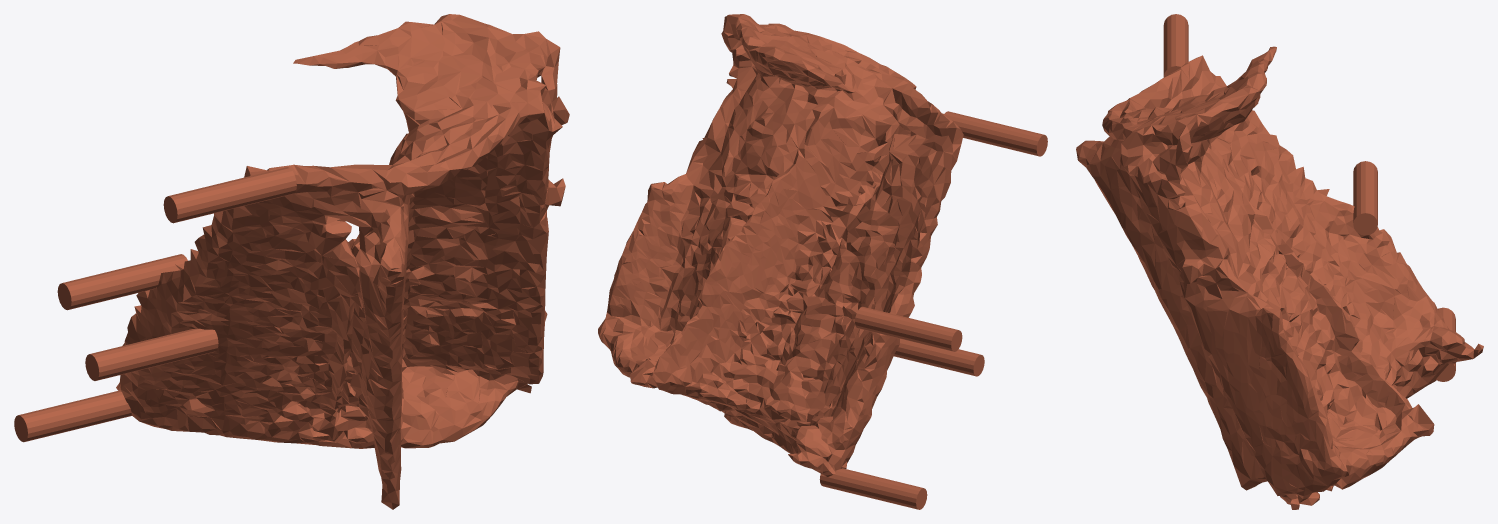
File: improved.glb
The picture shows the model from 3 angles, left to right: view 1: azimuth 30°, elevation 25°; view 2: azimuth 150°, elevation 25°; view 3: azimuth 270°, elevation 25°; orthographic projection. The views are drawn at different scales.
Visible parts, largest first — view 1: world; view 2: world; view 3: world.
Part boxes in pixels (x1=…): world: x1=14, y1=14, x2=569, y2=509; world: x1=598, y1=14, x2=1047, y2=509; world: x1=1076, y1=14, x2=1483, y2=509.
Size of the model in its own units: 0.74 by 0.7394 by 0.6374.
